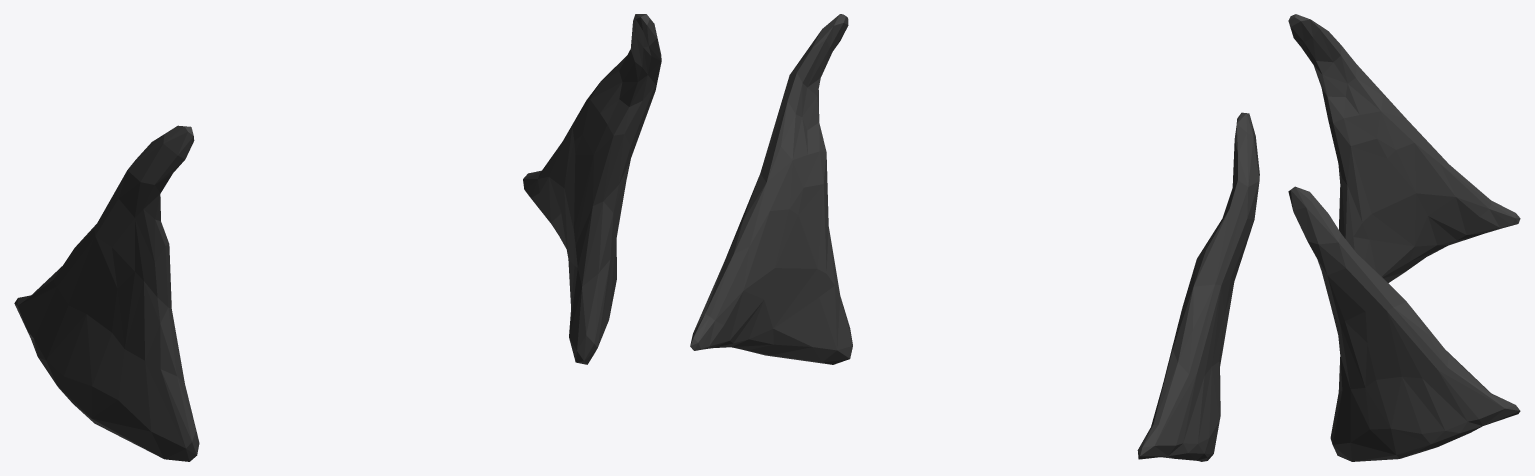
File: m_tensor_fasciae_latae.glb
The picture shows the model from 3 angles, left to right: view 1: azimuth 30°, elevation 25°; view 2: azimuth 150°, elevation 25°; view 3: azimuth 270°, elevation 25°; orthographic projection. The views are drawn at different scales.
Parts seen in each view (by area): view 1: m_tensor_fasciae_latae; view 2: m_tensor_fasciae_latae; view 3: m_tensor_fasciae_latae.
Part boxes in pixels (box(x1,y1,x2,y2)): m_tensor_fasciae_latae: box(14, 14, 661, 461); m_tensor_fasciae_latae: box(690, 14, 1259, 461); m_tensor_fasciae_latae: box(1288, 14, 1520, 461).
Size of the model in its own units: 0.00914 by 0.00585 by 0.00437.
Materials: 1 (1 with a texture image).
